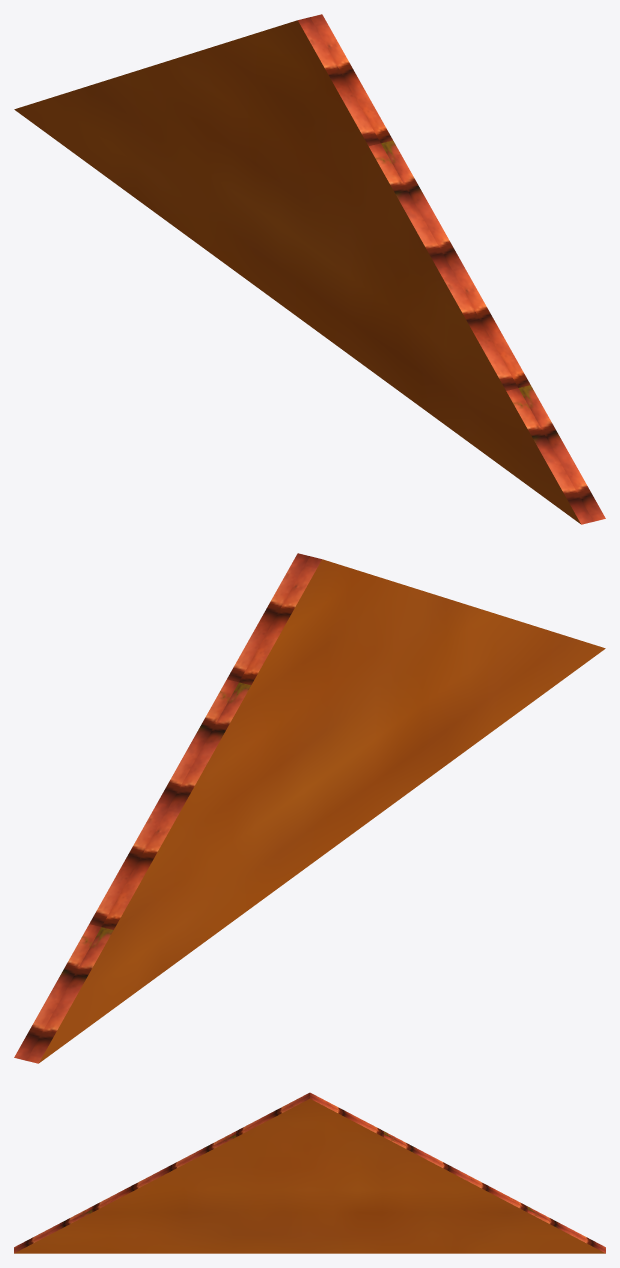
File: Roof_GableEnd_4m.fbx
3 renders of one model, top to bottom at view 1: azimuth 30°, elevation 25°; view 2: azimuth 150°, elevation 25°; view 3: azimuth 270°, elevation 25°, orthographic. The views are drawn at different scales.
Visible parts, largest first — view 1: Roof_GableEnd_4m; view 2: Roof_GableEnd_4m; view 3: Roof_GableEnd_4m.
Part boxes in pixels (left/top/right/bottom): Roof_GableEnd_4m: left=14, top=14, right=605, bottom=524; Roof_GableEnd_4m: left=14, top=553, right=605, bottom=1063; Roof_GableEnd_4m: left=14, top=1092, right=605, bottom=1253.
Size of the model in its own units: 0.1 by 1.15 by 4.
